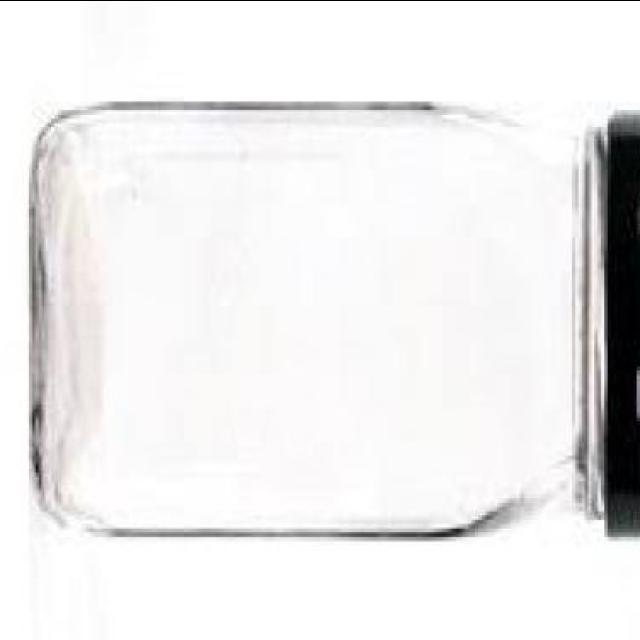kaca: (35, 98, 612, 540)
